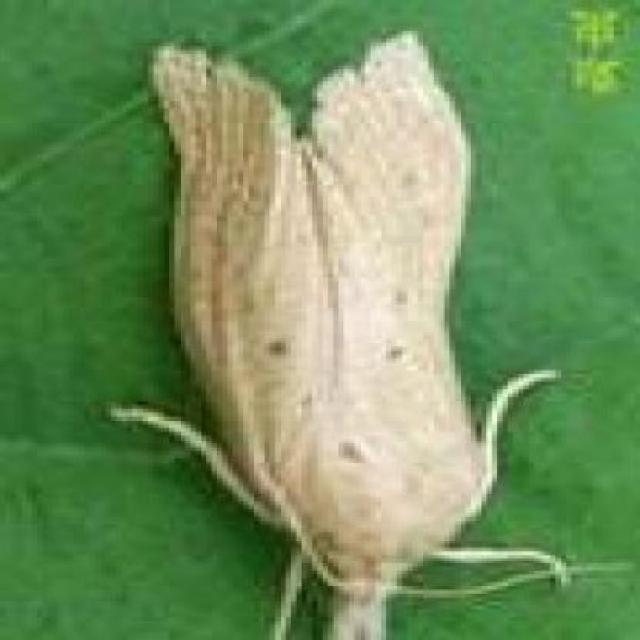stem-borer: (94, 26, 549, 640)
